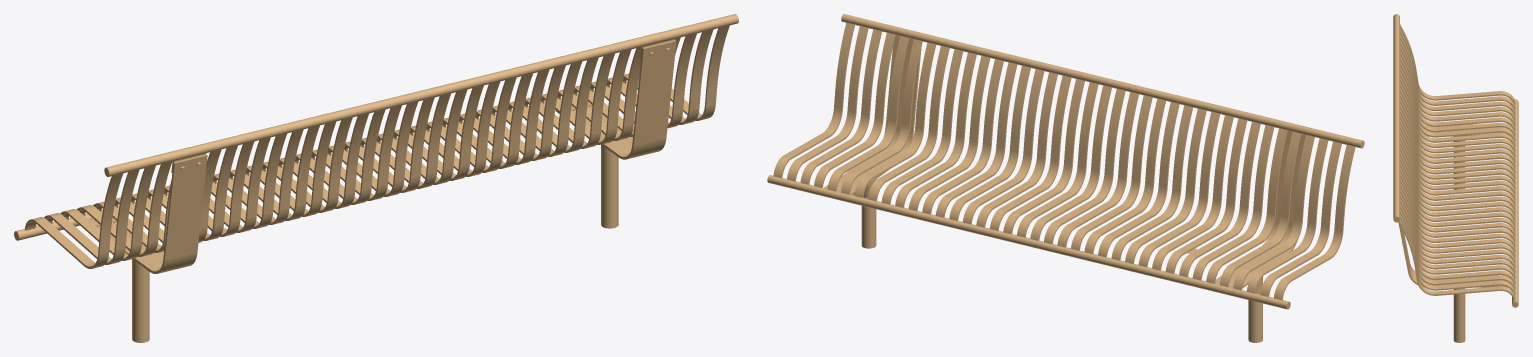
The picture shows the model from 3 angles, left to right: view 1: azimuth 30°, elevation 25°; view 2: azimuth 150°, elevation 25°; view 3: azimuth 270°, elevation 25°; orthographic projection. The views are drawn at different scales.
Parts seen in each view (by area): view 1: mesh32_mesh32-geometry, mesh21_mesh21-geometry, mesh5_mesh5-geometry, mesh67_mesh67-geometry, mesh66_mesh66-geometry, mesh65_mesh65-geometry, mesh64_mesh64-geometry, mesh15_mesh15-geometry, mesh31_mesh31-geometry, mesh55_mesh55-geometry, mesh37_mesh37-geometry, mesh43_mesh43-geometry (+28 smaller); view 2: mesh32_mesh32-geometry, mesh33_mesh33-geometry, mesh5_mesh5-geometry, mesh21_mesh21-geometry, mesh49_mesh49-geometry, mesh45_mesh45-geometry, mesh46_mesh46-geometry, mesh70_mesh70-geometry, mesh39_mesh39-geometry, mesh44_mesh44-geometry, mesh47_mesh47-geometry, mesh57_mesh57-geometry (+32 smaller); view 3: mesh32_mesh32-geometry, mesh33_mesh33-geometry, mesh71_mesh71-geometry, mesh48_mesh48-geometry, mesh55_mesh55-geometry, mesh65_mesh65-geometry, mesh53_mesh53-geometry, mesh43_mesh43-geometry, mesh40_mesh40-geometry, mesh57_mesh57-geometry, mesh61_mesh61-geometry, mesh45_mesh45-geometry (+32 smaller).
Boxes of the visible parts, x1=… form: mesh32_mesh32-geometry: x1=104, y1=14, x2=738, y2=176; mesh21_mesh21-geometry: x1=89, y1=153, x2=207, y2=273; mesh5_mesh5-geometry: x1=555, y1=39, x2=676, y2=159; mesh67_mesh67-geometry: x1=25, y1=173, x2=123, y2=268; mesh66_mesh66-geometry: x1=44, y1=169, x2=139, y2=264; mesh65_mesh65-geometry: x1=60, y1=165, x2=155, y2=260; mesh64_mesh64-geometry: x1=77, y1=161, x2=172, y2=256; mesh15_mesh15-geometry: x1=601, y1=144, x2=618, y2=228; mesh31_mesh31-geometry: x1=132, y1=259, x2=149, y2=342; mesh55_mesh55-geometry: x1=245, y1=121, x2=336, y2=216; mesh37_mesh37-geometry: x1=229, y1=125, x2=319, y2=220; mesh43_mesh43-geometry: x1=426, y1=77, x2=516, y2=172; mesh32_mesh32-geometry: x1=841, y1=14, x2=1364, y2=148; mesh33_mesh33-geometry: x1=767, y1=175, x2=1290, y2=309; mesh5_mesh5-geometry: x1=824, y1=35, x2=921, y2=195; mesh21_mesh21-geometry: x1=1215, y1=130, x2=1305, y2=288; mesh49_mesh49-geometry: x1=989, y1=75, x2=1071, y2=230; mesh45_mesh45-geometry: x1=895, y1=52, x2=976, y2=207; mesh46_mesh46-geometry: x1=1030, y1=85, x2=1111, y2=240; mesh70_mesh70-geometry: x1=827, y1=36, x2=908, y2=191; mesh39_mesh39-geometry: x1=1057, y1=92, x2=1138, y2=247; mesh44_mesh44-geometry: x1=881, y1=49, x2=963, y2=204; mesh47_mesh47-geometry: x1=1017, y1=82, x2=1098, y2=237; mesh57_mesh57-geometry: x1=1138, y1=112, x2=1220, y2=267; mesh32_mesh32-geometry: x1=1393, y1=14, x2=1399, y2=222; mesh33_mesh33-geometry: x1=1512, y1=99, x2=1518, y2=307; mesh71_mesh71-geometry: x1=1398, y1=219, x2=1515, y2=300; mesh48_mesh48-geometry: x1=1400, y1=130, x2=1515, y2=210; mesh55_mesh55-geometry: x1=1400, y1=93, x2=1515, y2=173; mesh65_mesh65-geometry: x1=1400, y1=34, x2=1515, y2=115; mesh53_mesh53-geometry: x1=1400, y1=188, x2=1515, y2=268; mesh43_mesh43-geometry: x1=1400, y1=151, x2=1515, y2=231; mesh40_mesh40-geometry: x1=1400, y1=114, x2=1515, y2=194; mesh57_mesh57-geometry: x1=1400, y1=77, x2=1515, y2=157; mesh61_mesh61-geometry: x1=1400, y1=56, x2=1515, y2=136; mesh45_mesh45-geometry: x1=1400, y1=172, x2=1515, y2=252.
Size of the model in its own units: 0.9183 by 0.3151 by 0.2395.
